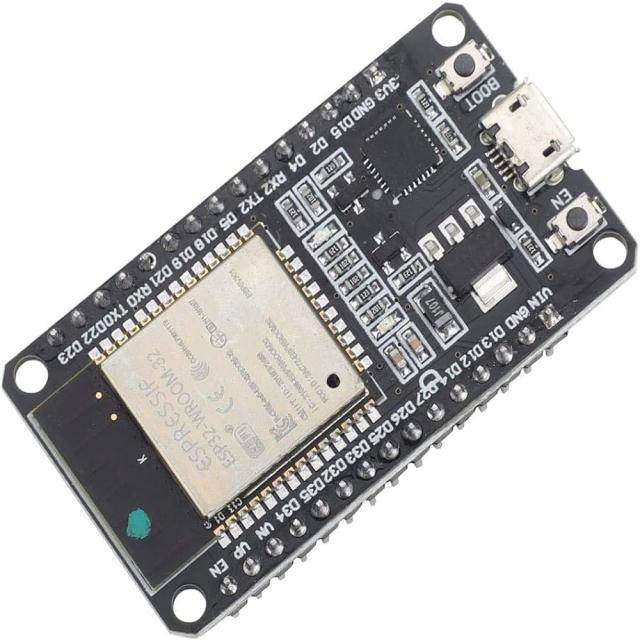ESP32: (4, 5, 637, 637)
